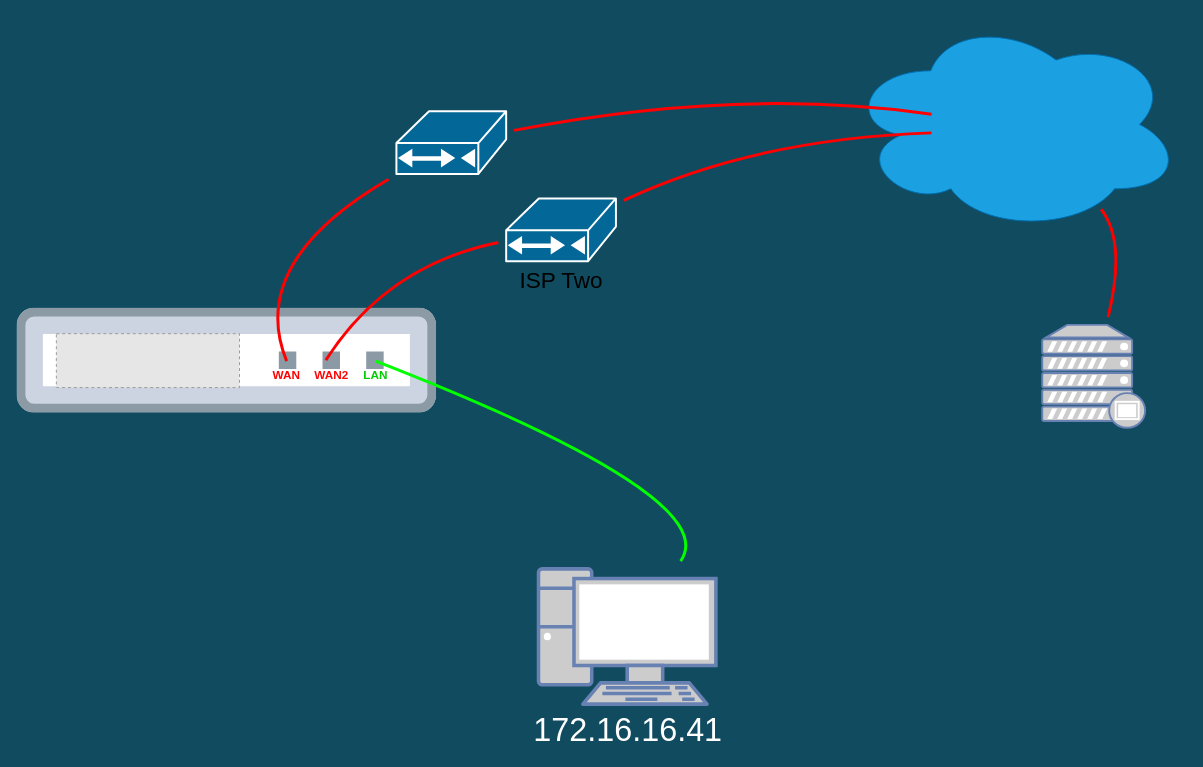
Image size: 1203x767. Some labels were removed from this diagram. Grey dashed boxes stand in for pictures. The box of each missing label's shape, as (x1, y1, x2, y2) in pixels:
ipinfo.io 34.117.59.81: (1041, 323, 1146, 428)
ISP One: (395, 110, 507, 174)
